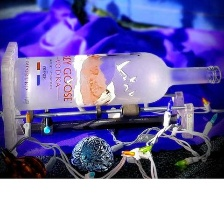bottle: (7, 48, 223, 109)
